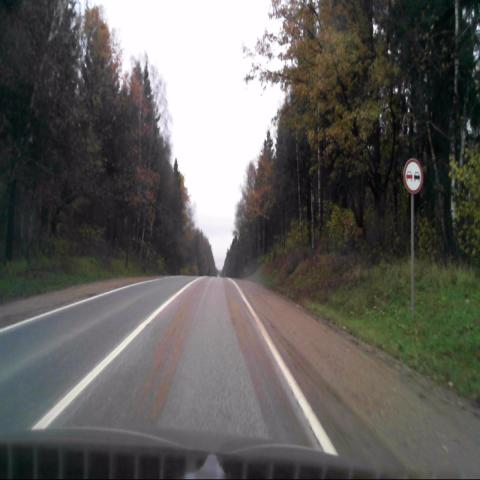3_20: (403, 155, 422, 193)
